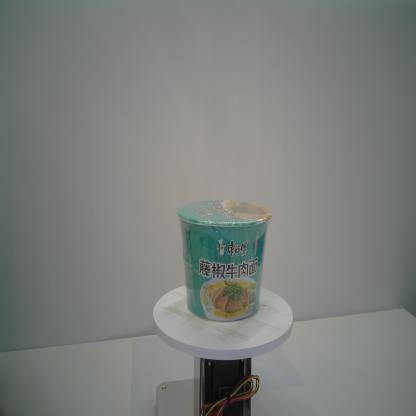Instant Noodles: (176, 197, 274, 325)
